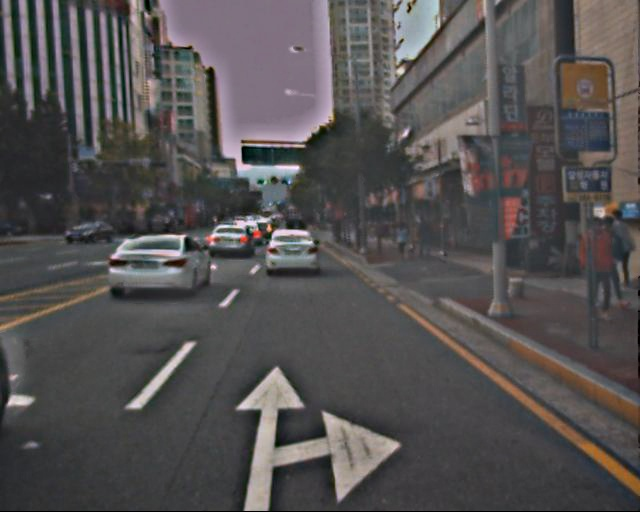person: (576, 216, 620, 314), (598, 210, 636, 291), (415, 213, 435, 260), (395, 221, 410, 258)
